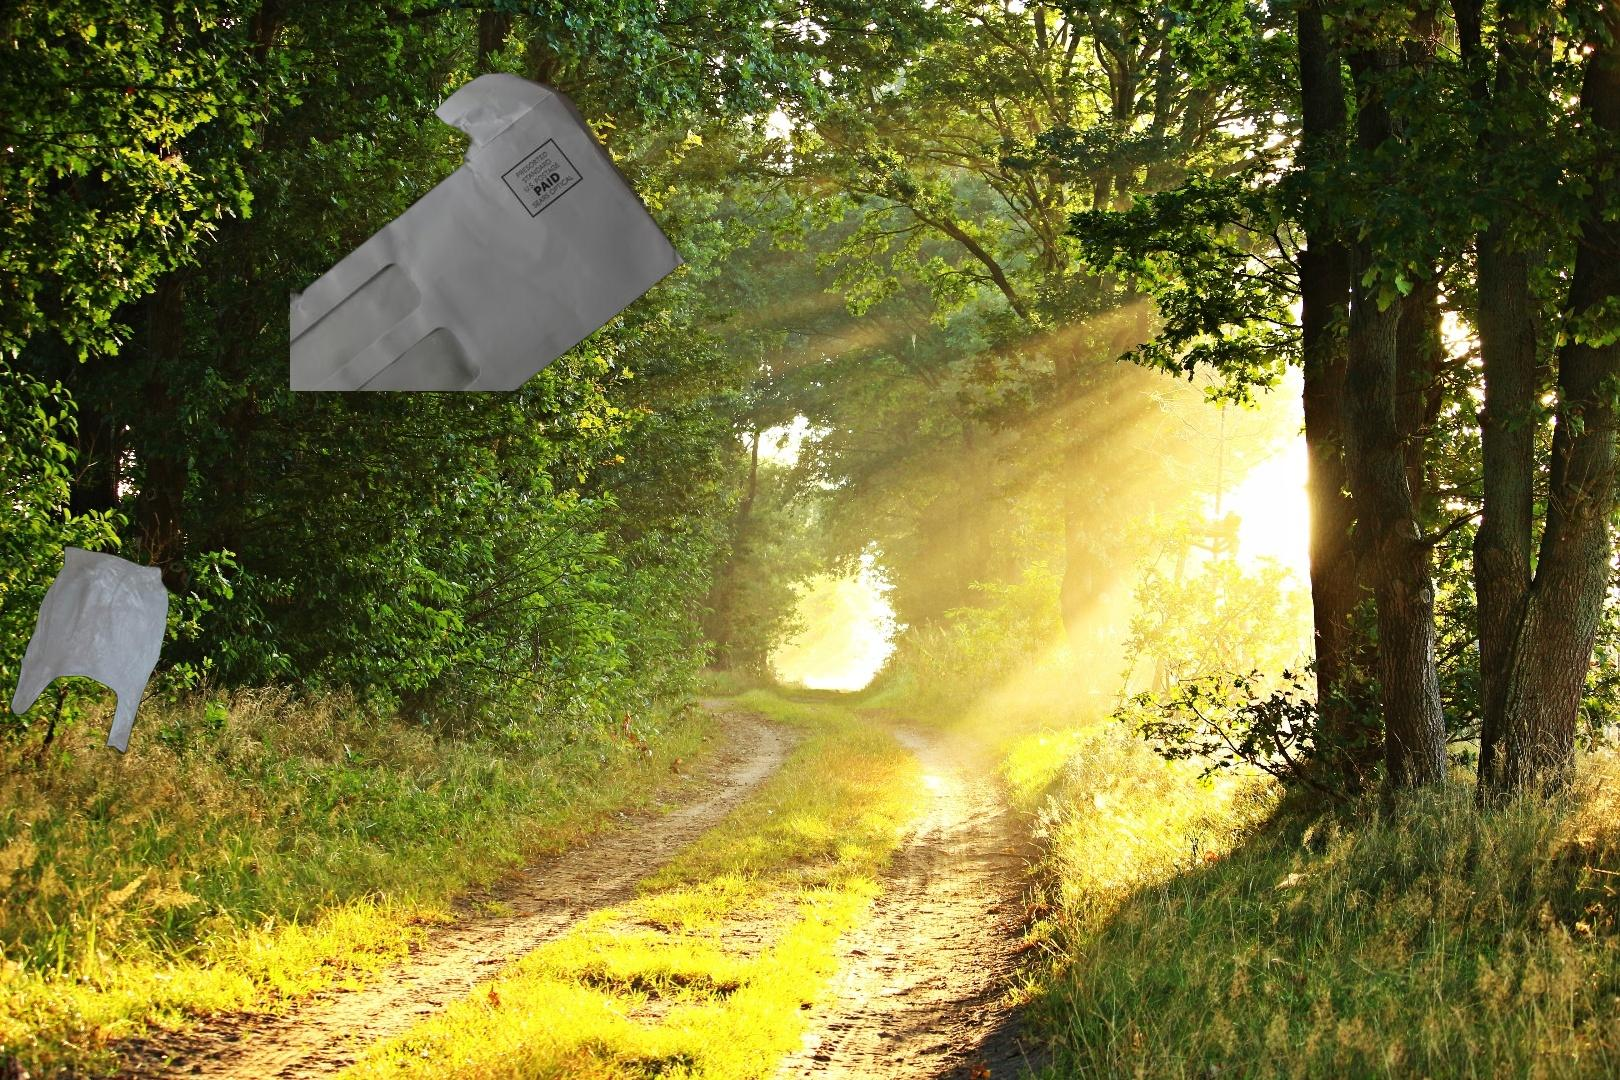paper: (290, 67, 691, 391)
plastic-bag: (8, 542, 172, 756)
plastic-bottles: (939, 946, 1192, 1080)
